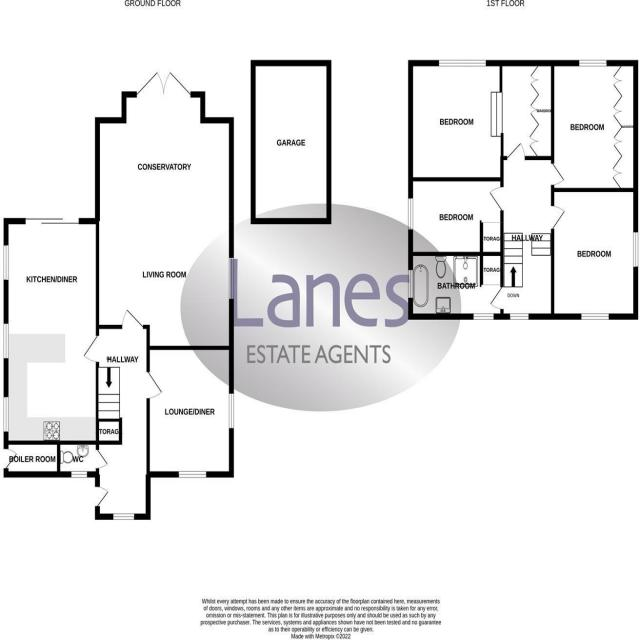DOOR: (82, 334, 99, 364), (146, 371, 163, 400), (121, 309, 144, 329), (489, 186, 504, 212), (506, 141, 526, 160), (551, 205, 565, 230), (551, 162, 565, 186), (490, 286, 504, 310), (95, 485, 109, 508), (96, 448, 109, 469)
DOUBLE DOOR: (136, 69, 192, 98)
ROOM: (95, 70, 234, 350), (3, 217, 100, 444), (145, 346, 234, 478), (408, 59, 504, 181), (551, 188, 639, 320), (551, 60, 638, 192), (408, 177, 504, 256)
WINDOW: (438, 59, 486, 67), (228, 257, 234, 300), (581, 313, 610, 321), (578, 59, 607, 67), (407, 198, 414, 231), (3, 322, 9, 360), (3, 396, 9, 433), (633, 232, 639, 268), (228, 393, 234, 429), (3, 245, 9, 281), (407, 269, 414, 299), (178, 471, 207, 478), (112, 513, 135, 521), (473, 313, 494, 320), (70, 470, 88, 478), (509, 313, 529, 320)
